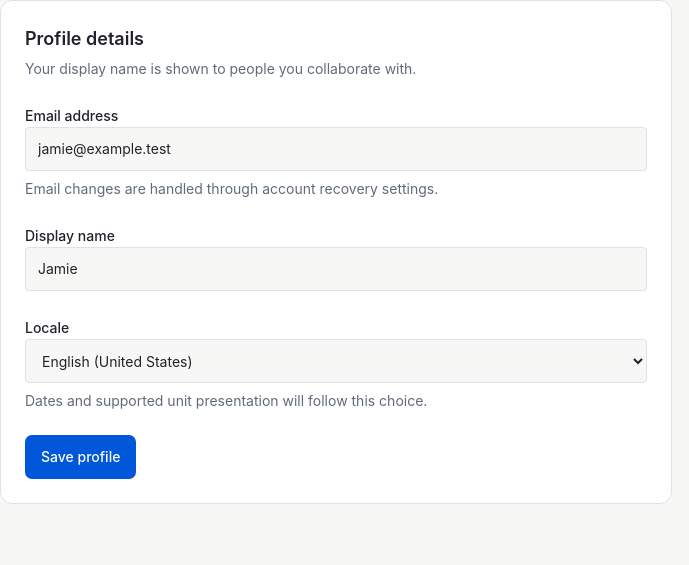
AccountProfileForm › shows a server validation error
Click the button "Save profile" at (81,457), box [25,435,136,479]
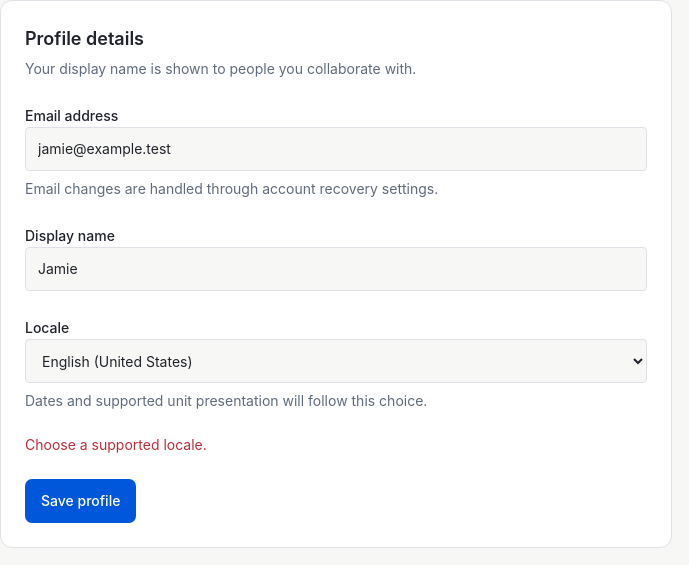
Check: the message reads "Choose a supported locale.", box [25,436,207,453]
